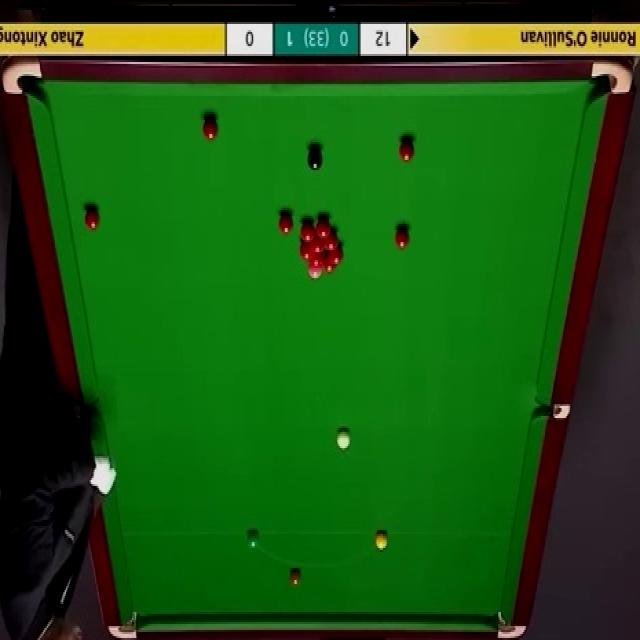pocket: (2, 57, 42, 96), (590, 61, 634, 96), (496, 610, 528, 640), (107, 608, 138, 638), (536, 400, 570, 419), (78, 399, 98, 418)
